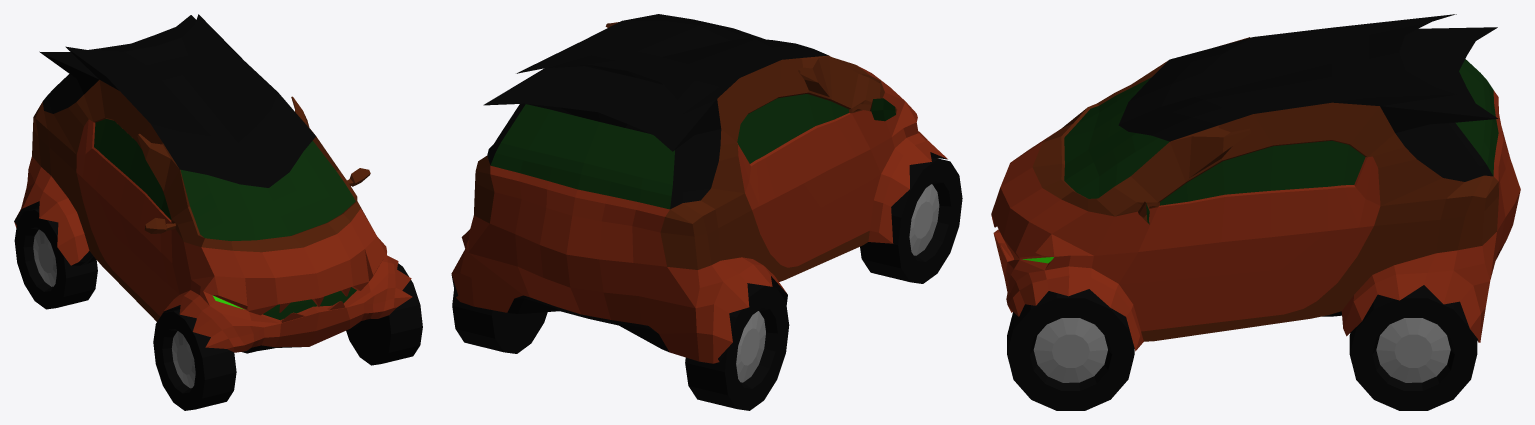
File: Carju_1.fbx
3 renders of one model, left to right at view 1: azimuth 30°, elevation 25°; view 2: azimuth 150°, elevation 25°; view 3: azimuth 270°, elevation 25°, orthographic. The views are drawn at different scales.
Parts seen in each view (by area): view 1: Carju_0.001, Carju_0.004, Carju_0.005, Carju_0.002; view 2: Carju_0.001, Carju_0.004, Carju_0.005, Carju_0.003; view 3: Carju_0.001, Carju_0.002, Carju_0.003.
Boxes of the visible parts, bbox=[...] form: Carju_0.001: bbox=[14, 14, 412, 353]; Carju_0.004: bbox=[153, 309, 236, 410]; Carju_0.005: bbox=[14, 208, 97, 309]; Carju_0.002: bbox=[346, 263, 422, 365]; Carju_0.001: bbox=[451, 14, 947, 363]; Carju_0.004: bbox=[860, 156, 962, 283]; Carju_0.005: bbox=[685, 283, 789, 410]; Carju_0.003: bbox=[452, 289, 547, 353]; Carju_0.001: bbox=[991, 14, 1520, 351]; Carju_0.002: bbox=[1007, 289, 1134, 410]; Carju_0.003: bbox=[1349, 285, 1477, 410].
Size of the model in its own units: 171 by 167 by 273.
